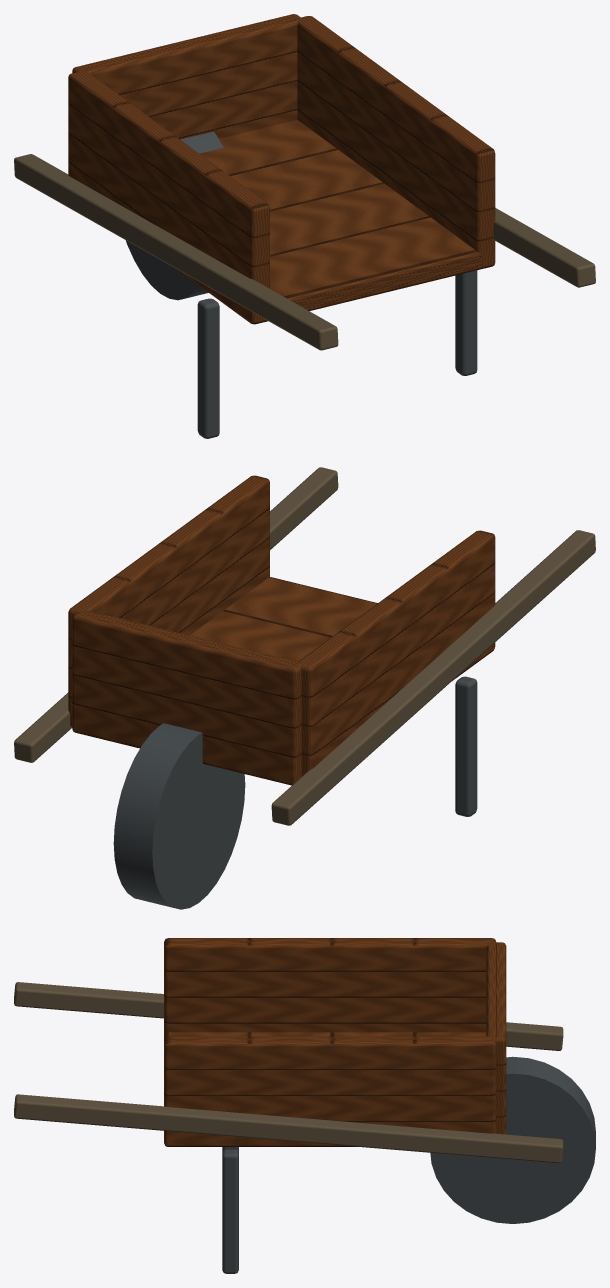
File: undercity-sewers-and-thieves-den-wheelbarrow-ed6df4b2__27216.glb
3 renders of one model, top to bottom at view 1: azimuth 30°, elevation 25°; view 2: azimuth 150°, elevation 25°; view 3: azimuth 270°, elevation 25°, orthographic. The views are drawn at different scales.
Parts seen in each view (by area): view 1: wheelbarrow; view 2: wheelbarrow; view 3: wheelbarrow.
Part boxes in pixels (left/top/right/bottom): wheelbarrow: left=14, top=14, right=595, bottom=438; wheelbarrow: left=14, top=467, right=595, bottom=909; wheelbarrow: left=14, top=938, right=595, bottom=1273.
Size of the model in its own units: 0.86 by 0.7499 by 1.75.
3 materials, 1 textured.
